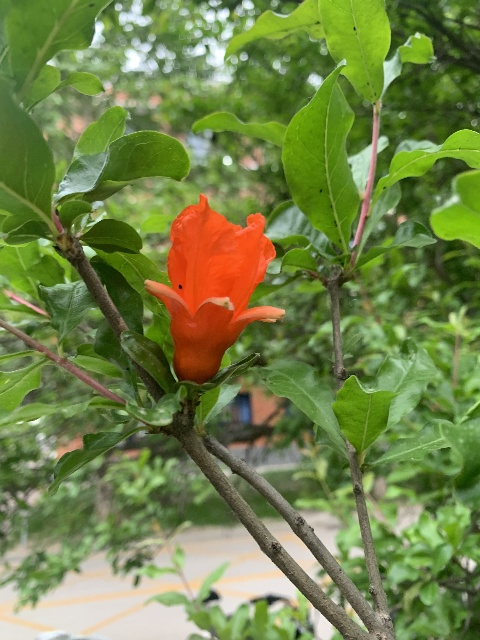flower: (144, 192, 284, 385)
